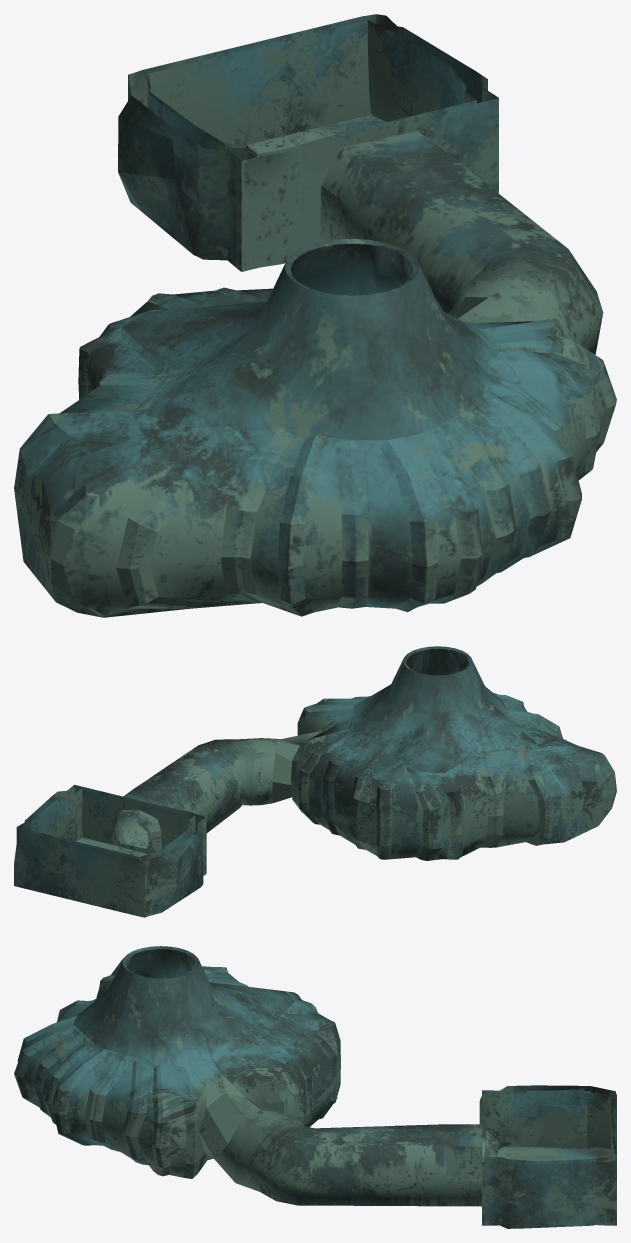
The model's file is environ_finalsmooth.FBX.
3 renders of one model, top to bottom at view 1: azimuth 30°, elevation 25°; view 2: azimuth 150°, elevation 25°; view 3: azimuth 270°, elevation 25°, orthographic. The views are drawn at different scales.
Visible parts, largest first — view 1: Torus002; view 2: Torus002; view 3: Torus002.
Boxes of the visible parts, left/top/right/bottom form: Torus002: left=14, top=14, right=616, bottom=617; Torus002: left=14, top=646, right=616, bottom=917; Torus002: left=14, top=946, right=616, bottom=1228.
Size of the model in its own units: 785 by 273 by 940.
